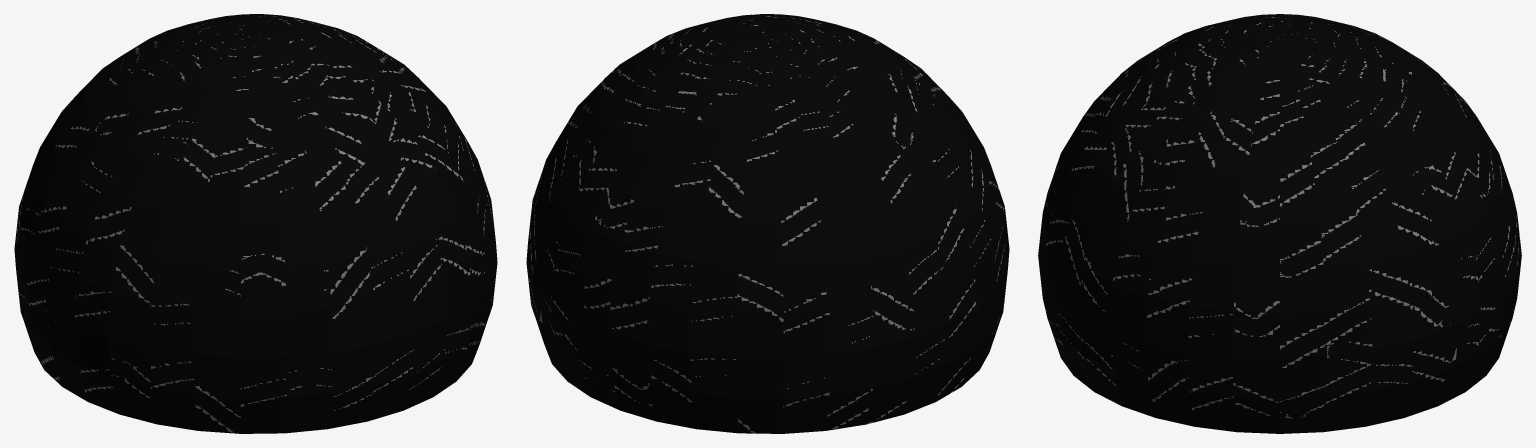
Rendered from Roar.fbx.
3 renders of one model, left to right at view 1: azimuth 30°, elevation 25°; view 2: azimuth 150°, elevation 25°; view 3: azimuth 270°, elevation 25°, orthographic.
Parts seen in each view (by area): view 1: 球; view 2: 球; view 3: 球.
Boxes of the visible parts, x1,y1,x2,y2 form: 球: (14, 14, 497, 433); 球: (526, 14, 1009, 433); 球: (1038, 14, 1521, 433).
Size of the model in its own units: 200 by 138 by 200.
